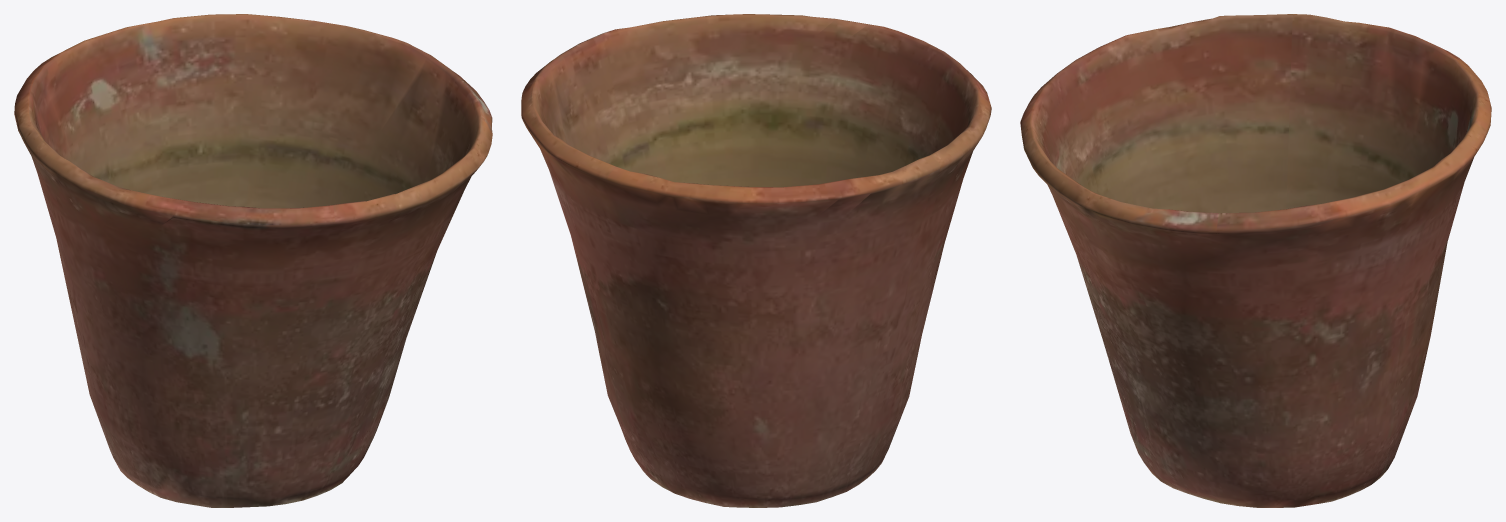
The model's file is planter.glb.
3 views of the same model, side by side, from view 1: azimuth 30°, elevation 25°; view 2: azimuth 150°, elevation 25°; view 3: azimuth 270°, elevation 25° (orthographic).
Parts seen in each view (by area): view 1: planter_pot_clay; view 2: planter_pot_clay; view 3: planter_pot_clay.
Boxes of the visible parts, left/top/right/bottom form: planter_pot_clay: left=14, top=14, right=492, bottom=507; planter_pot_clay: left=521, top=14, right=991, bottom=507; planter_pot_clay: left=1020, top=14, right=1491, bottom=507.
Size of the model in its own units: 0.266 by 0.2219 by 0.2635.
Materials: 1 (1 with a texture image).
